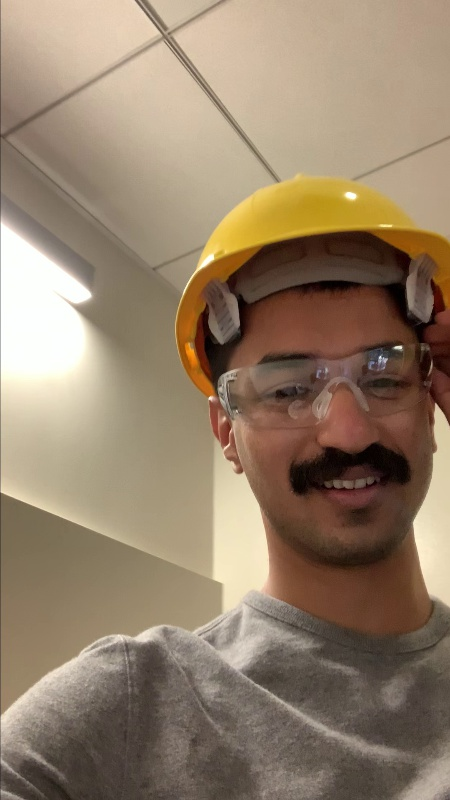glasses: (232, 345, 450, 424)
helmet: (181, 171, 450, 281)
